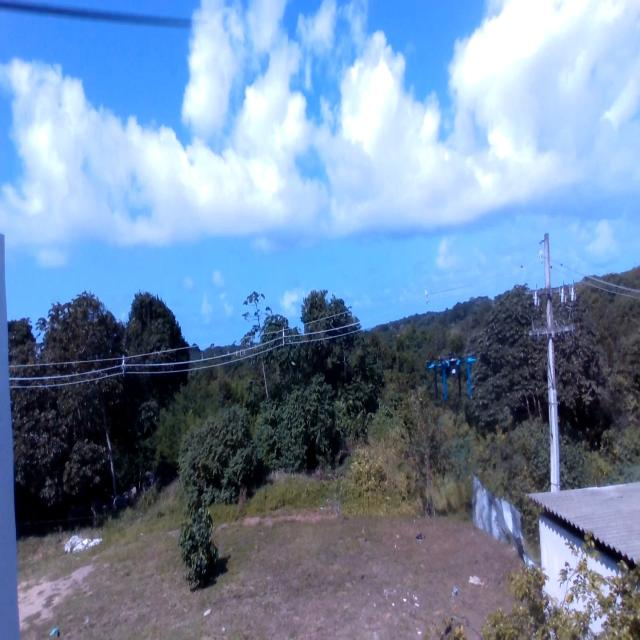-uav-: (418, 336, 481, 411)
